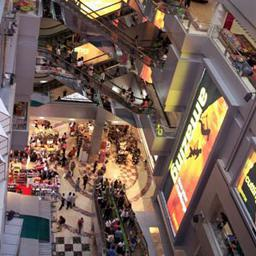Escaleras: (47, 1, 159, 86), (36, 50, 154, 127)
